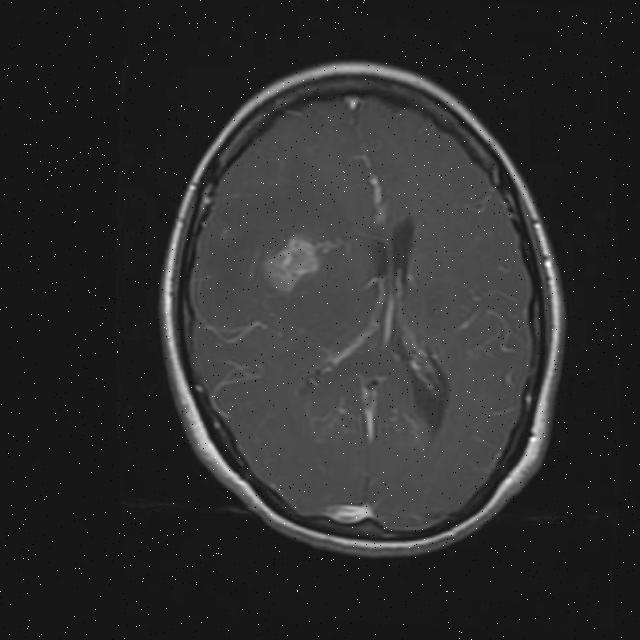Glioma: (260, 233, 324, 298)
